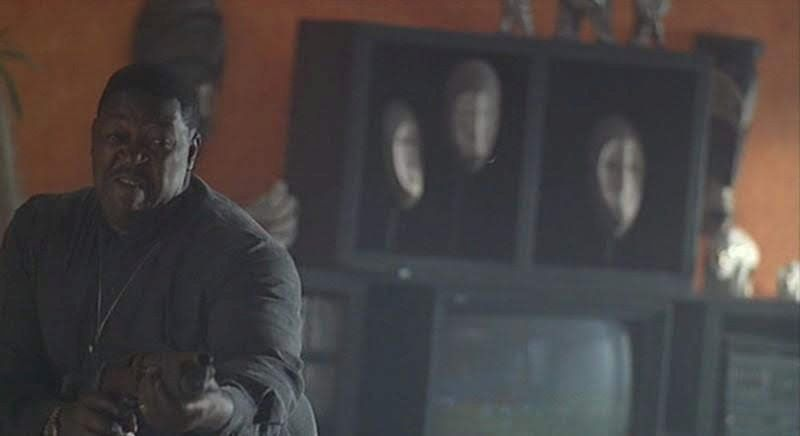gun: (42, 343, 233, 413)
